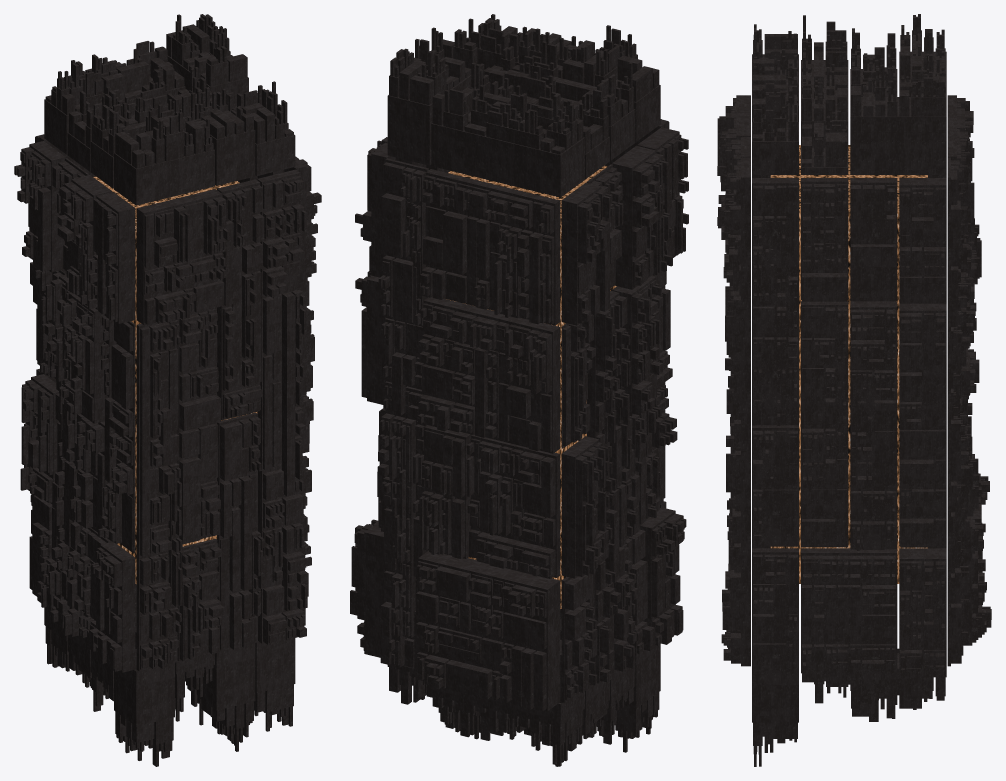
File: beta_tower.gltf
3 renders of one model, left to right at view 1: azimuth 30°, elevation 25°; view 2: azimuth 150°, elevation 25°; view 3: azimuth 270°, elevation 25°, orthographic. The views are drawn at different scales.
Visible parts, largest first — view 1: PILAR_1_0; view 2: PILAR_1_0; view 3: PILAR_1_0.
Part boxes in pixels (left/top/right/bottom): PILAR_1_0: left=14, top=14, right=321, bottom=766; PILAR_1_0: left=350, top=14, right=688, bottom=766; PILAR_1_0: left=717, top=14, right=991, bottom=766.
Size of the model in its own units: 5.68 by 15.75 by 5.53.
2 materials, 2 textured.
